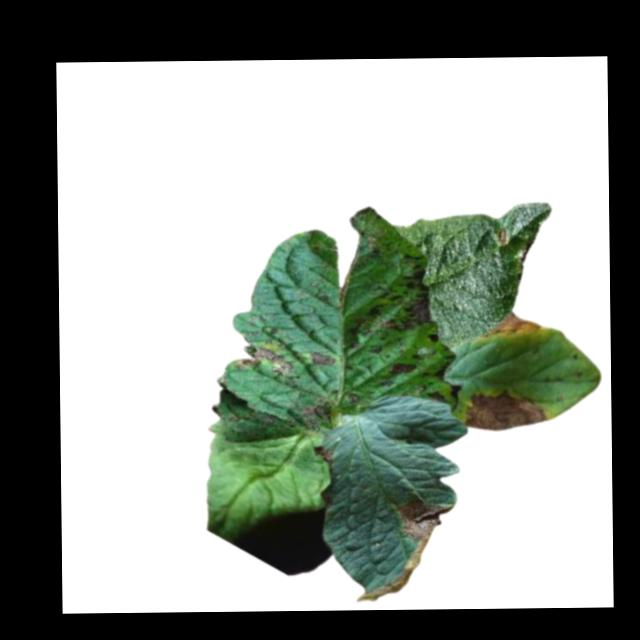Early_blight: (352, 497, 446, 605), (365, 255, 431, 334), (463, 386, 545, 429), (237, 340, 294, 379), (482, 309, 540, 338), (302, 394, 334, 430), (427, 380, 460, 412), (313, 443, 337, 462), (388, 361, 415, 375), (312, 352, 336, 366), (495, 228, 511, 247), (427, 332, 441, 344)
